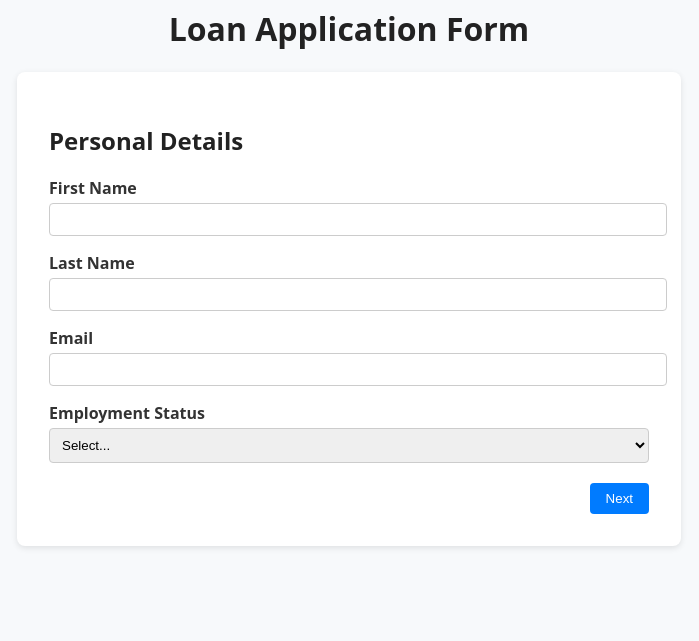
Loan Application Form Validations › prevents submitting form with missing loan fields
// Fill step 1
In the field named "firstName": point(358, 220) [49,203,667,236], type "Yves"
In the field named "lastName": point(358, 295) [49,278,667,311], type "Gonzaga"
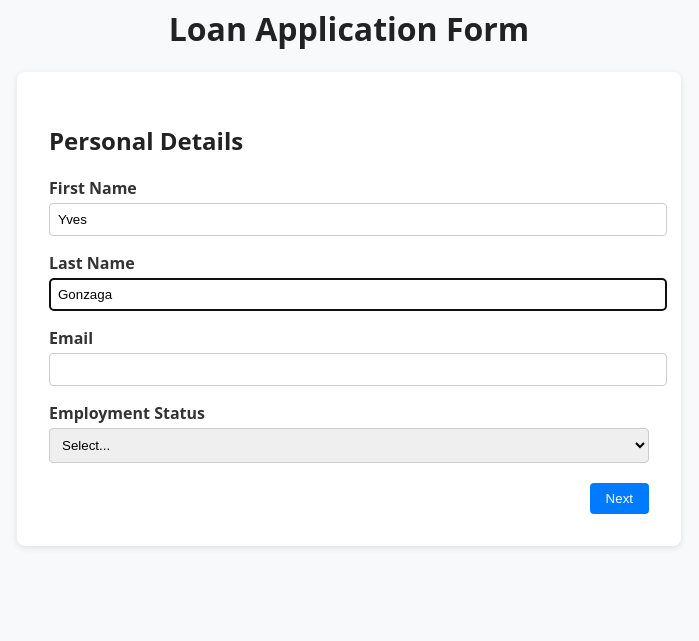
In the field named "email": point(358, 370) [49,353,667,386], type "yves@example.com"
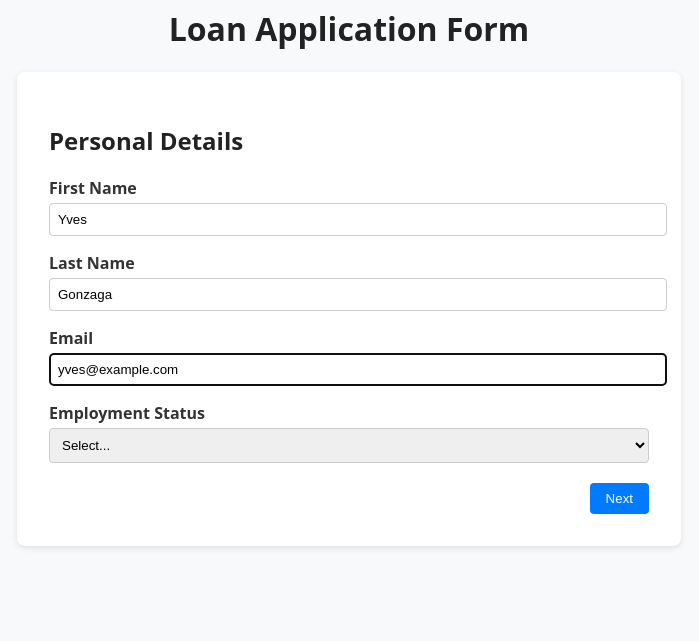
Select "Employed" in the dropdown named "employmentStatus": point(349, 446) [49,428,649,463]
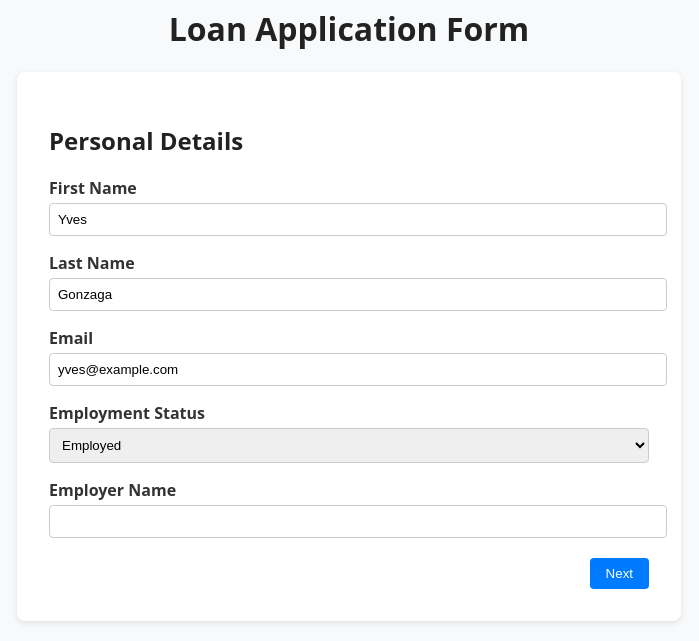
In the field named "employerName": point(358, 522) [49,505,667,538], type "Tech Corp"
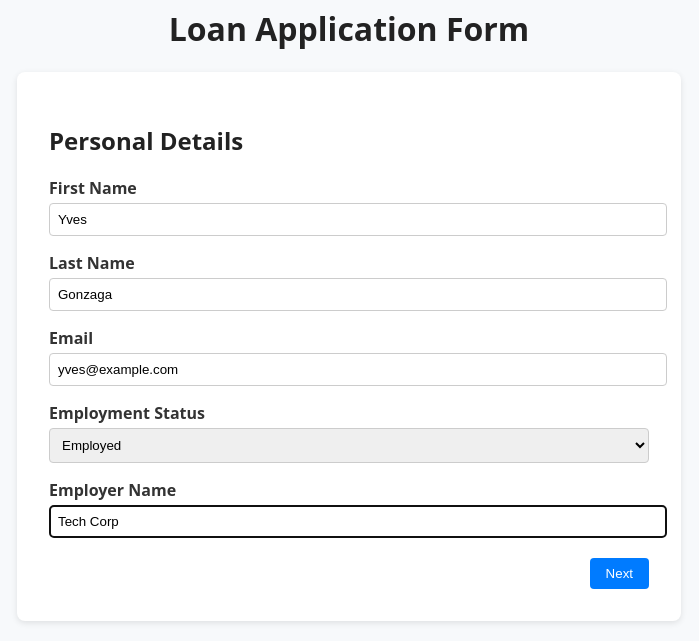
Click the button "Next": point(620, 574) [590,558,649,589]
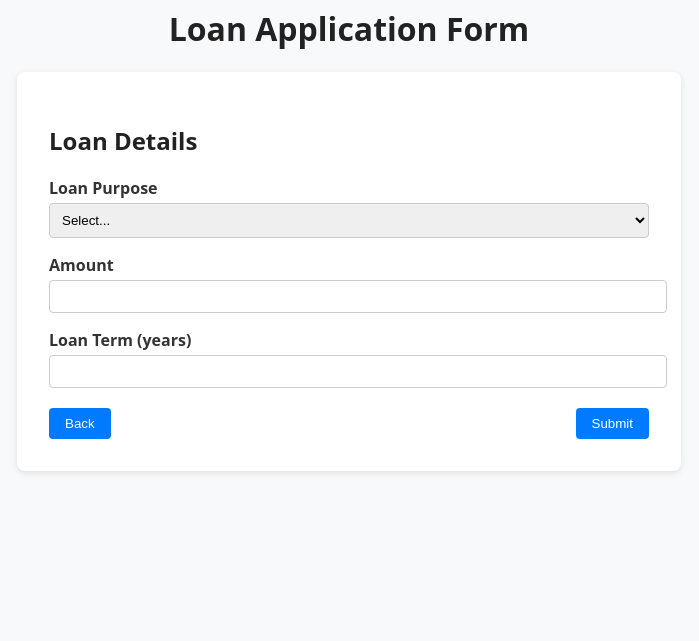
// Don't fill step 2
Click the button "Submit": point(613, 424) [576,408,650,439]
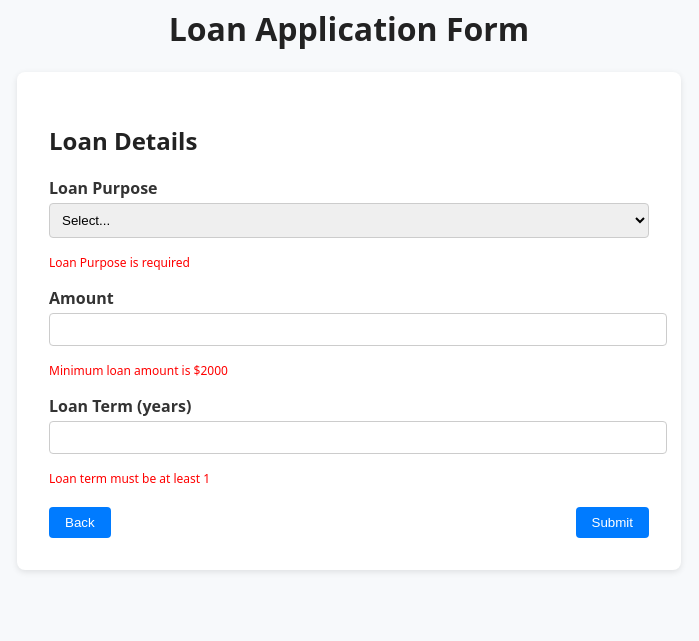
expect the text "Minimum loan amount is $2000" is shown: met, box [49,362,228,379]
expect the text "Loan term must be at least 1" is shown: met, box [49,470,210,487]
